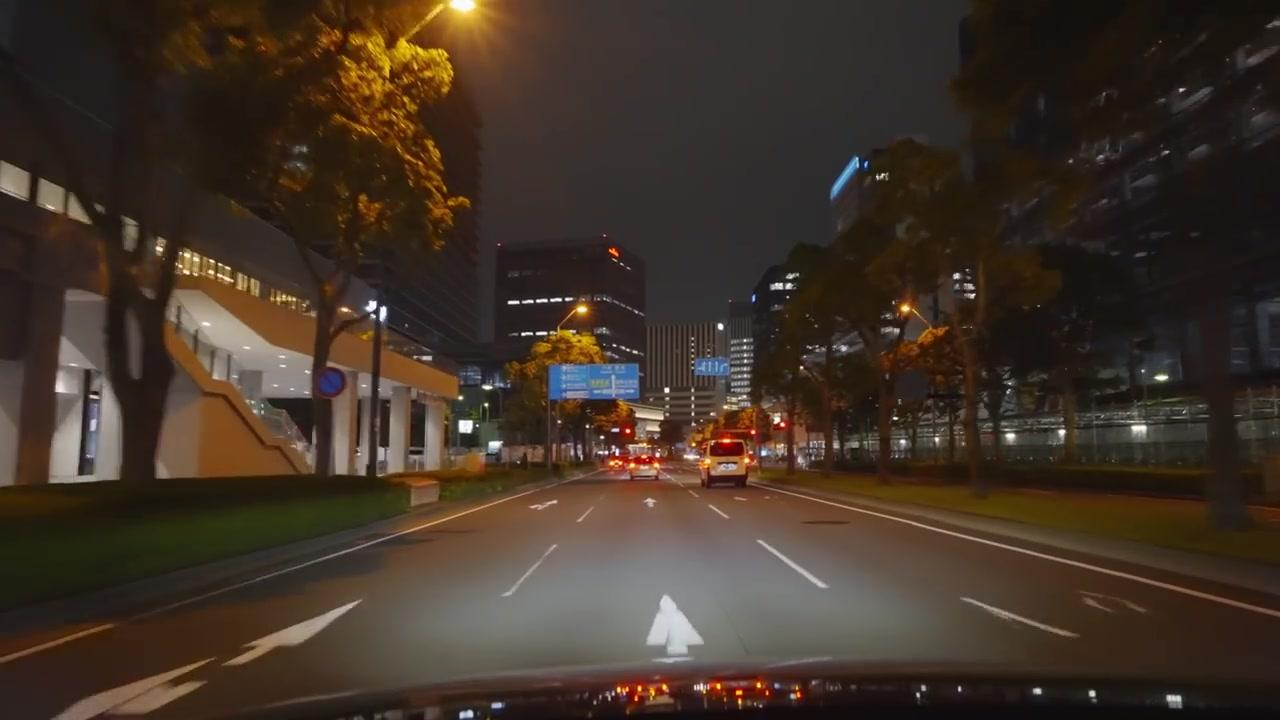bus: (700, 437, 750, 488)
car: (700, 437, 750, 488), (629, 452, 659, 480), (607, 453, 630, 473)
traffic light: (623, 425, 635, 437)
